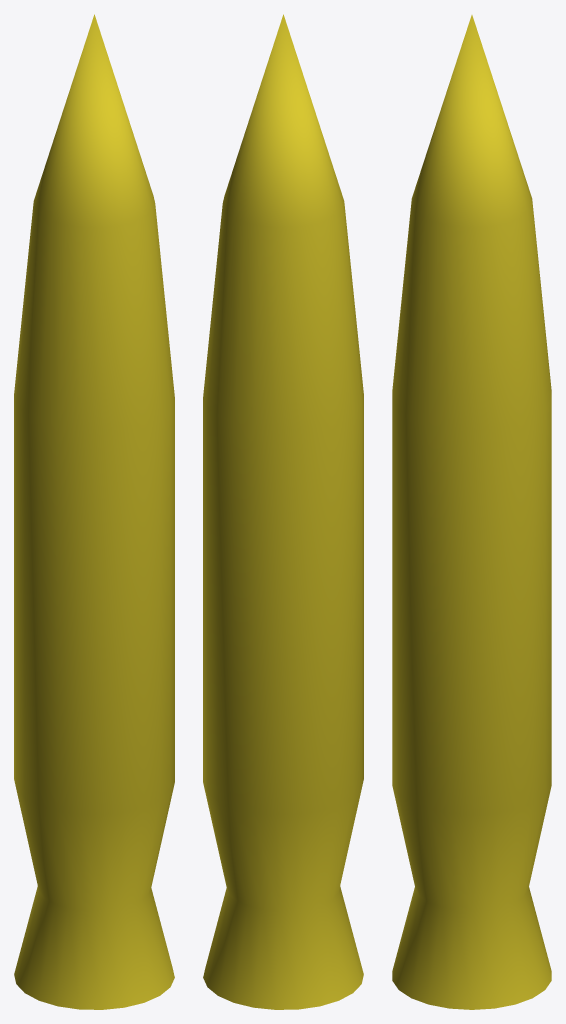
Rendered from Bullet.fbx.
3 views of the same model, side by side, from view 1: azimuth 30°, elevation 25°; view 2: azimuth 150°, elevation 25°; view 3: azimuth 270°, elevation 25° (orthographic).
Visible parts, largest first — view 1: Capsule; view 2: Capsule; view 3: Capsule.
Boxes of the visible parts, <box> form: Capsule: <box>14,14,174,1009</box>; Capsule: <box>203,14,363,1009</box>; Capsule: <box>392,15,551,1009</box>.
Size of the model in its own units: 46 by 303 by 45.53.
